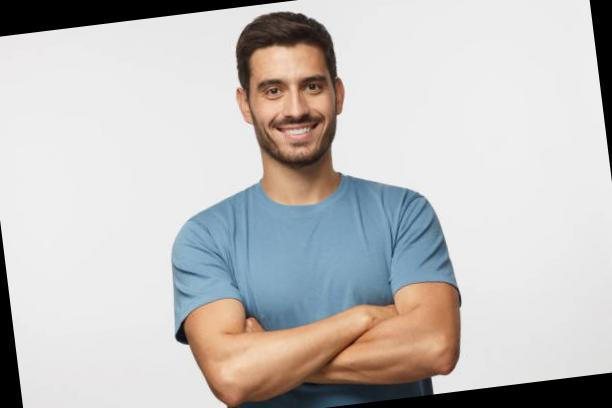Sober: (254, 47, 335, 159)
